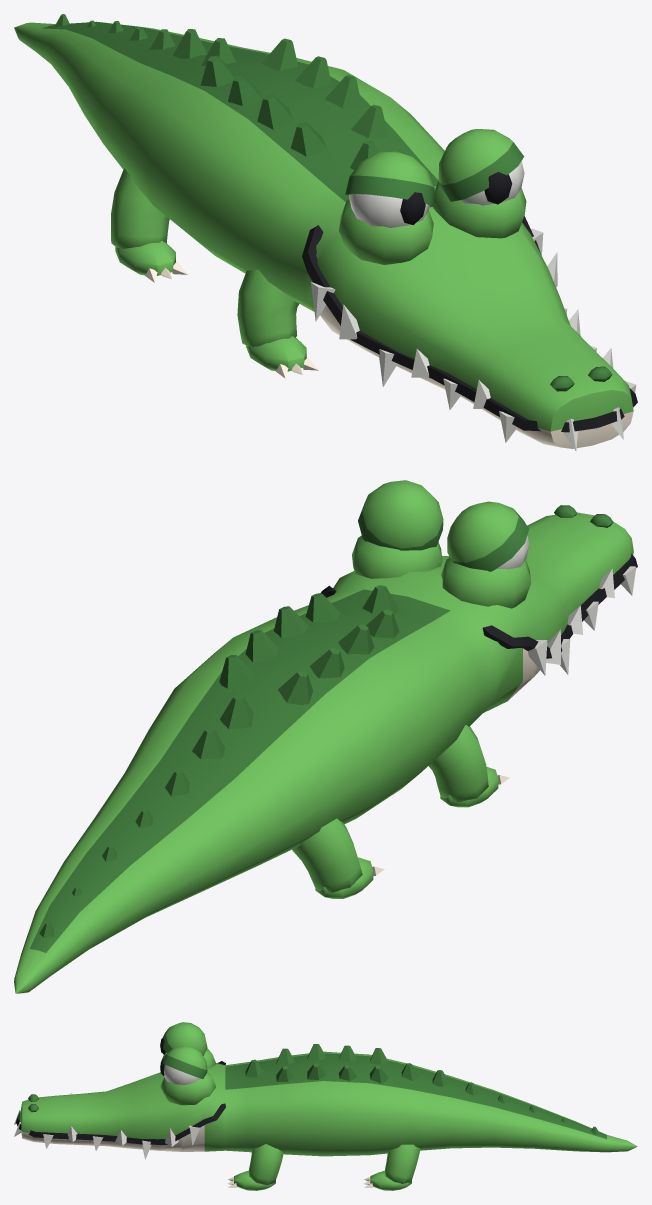
File: Cocodrilo.fbx
The picture shows the model from 3 angles, top to bottom: view 1: azimuth 30°, elevation 25°; view 2: azimuth 150°, elevation 25°; view 3: azimuth 270°, elevation 25°; orthographic projection. The views are drawn at different scales.
Visible parts, largest first — view 1: Cocodrilo; view 2: Cocodrilo; view 3: Cocodrilo.
Part boxes in pixels (box(x1,y1,x2,y2)): Cocodrilo: box(14, 14, 637, 451); Cocodrilo: box(14, 480, 637, 993); Cocodrilo: box(14, 1022, 637, 1190).
Bounding box in the file's own units: 1.35 × 1.35 × 6.
1 material, 1 textured.
